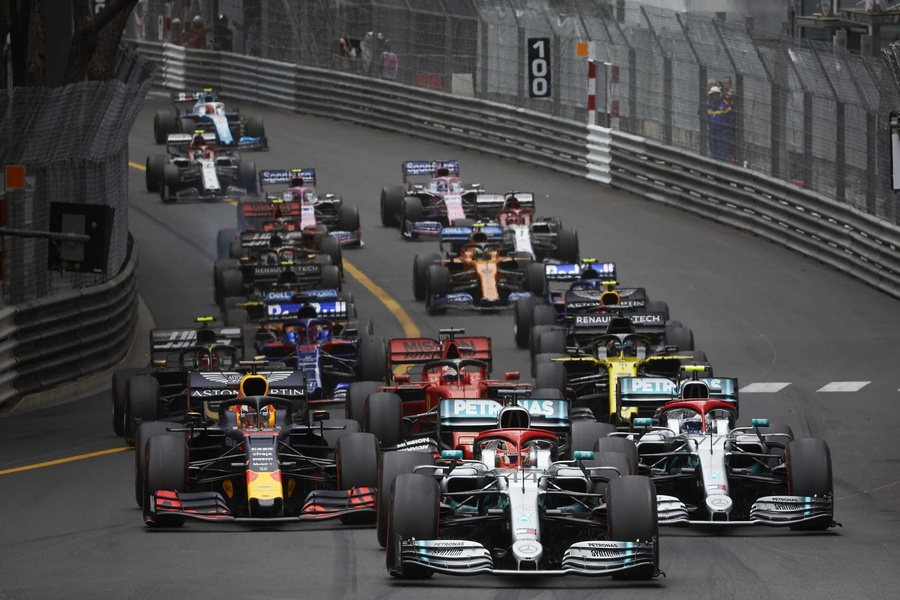Ferrari: (368, 337, 529, 440)
McLaren: (415, 228, 552, 311)
Mercedes: (385, 400, 653, 570), (558, 377, 843, 530)
Racing Point: (382, 157, 518, 236)
Red Bull Racing: (135, 372, 380, 518)
Renault: (534, 317, 716, 422)
